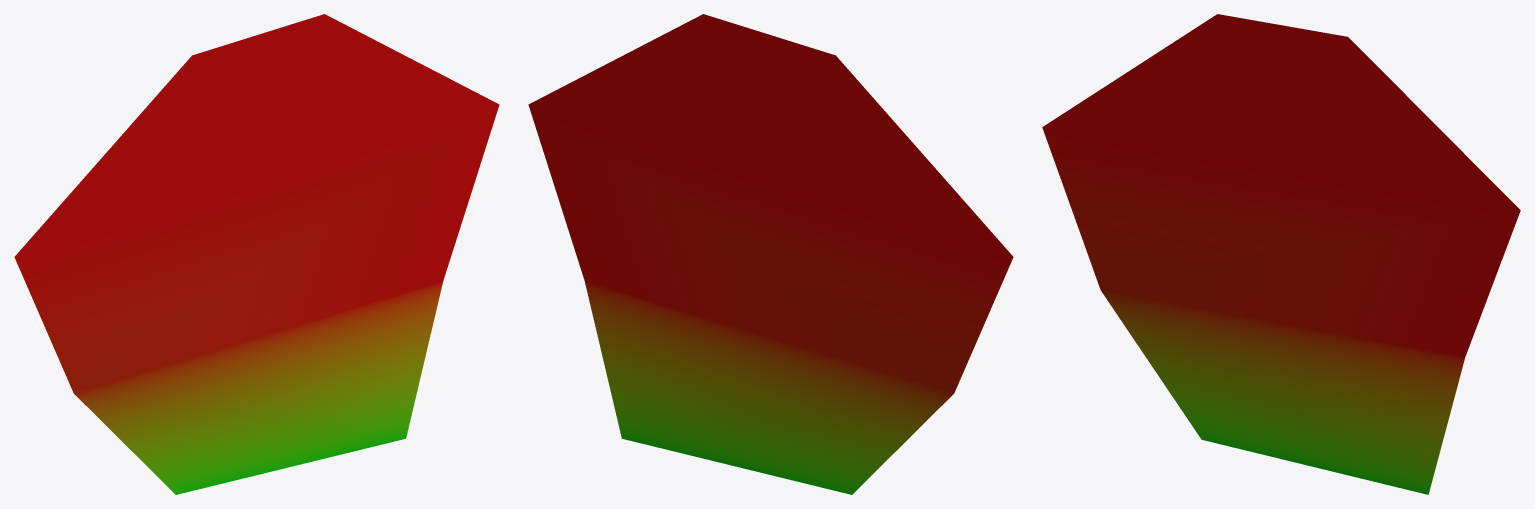
File: Basil_LOD5_Var2_vgpochzia.fbx
The picture shows the model from 3 angles, left to right: view 1: azimuth 30°, elevation 25°; view 2: azimuth 150°, elevation 25°; view 3: azimuth 330°, elevation 25°; orthographic projection.
Parts seen in each view (by area): view 1: _l0ln_Var2_LOD5; view 2: _l0ln_Var2_LOD5; view 3: _l0ln_Var2_LOD5.
Boxes of the visible parts, x1,y1,x2,y2 form: _l0ln_Var2_LOD5: (14, 14, 499, 494); _l0ln_Var2_LOD5: (528, 14, 1013, 494); _l0ln_Var2_LOD5: (1042, 14, 1520, 494).
Size of the model in its own units: 33.81 by 29.62 by 4.82e-06.
